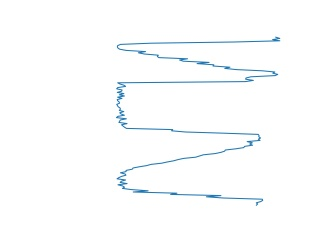distributaryChannelFill: (111, 74, 265, 142)
mouthBar: (113, 35, 283, 78)
underwaterDistributaryChannel: (113, 137, 266, 206)
